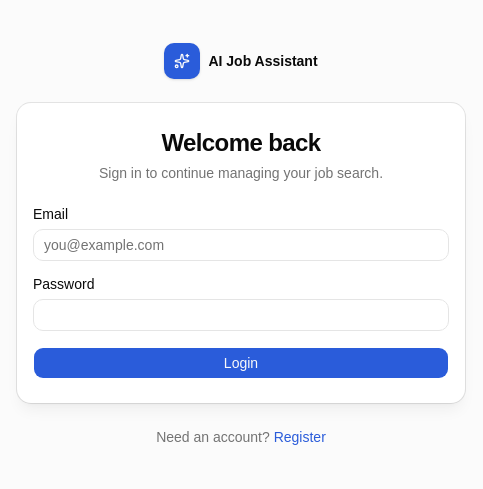
it: Login › shows a useful message when credentials are rejected
Type "user@example.com" into the field labelled "Email" at point(241, 245), box [33,229,449,261]
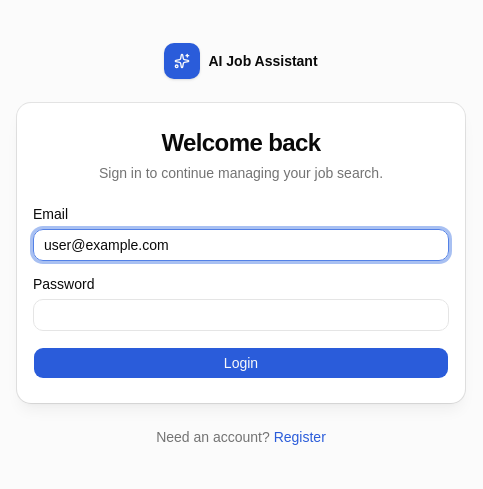
Type "wrong-password" into the password field labelled "Password" at point(241, 315), box [33,299,449,331]
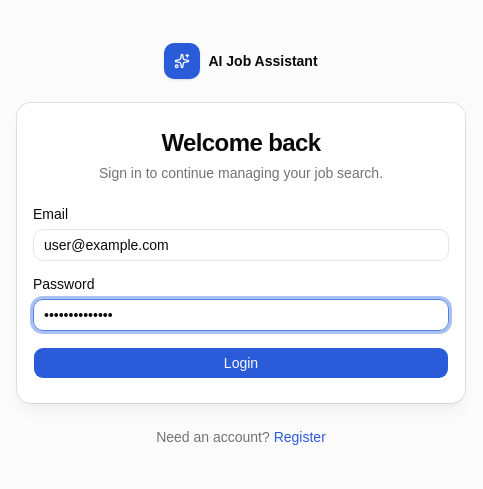
Click the button "Login" at point(241, 363), box [33,347,449,379]
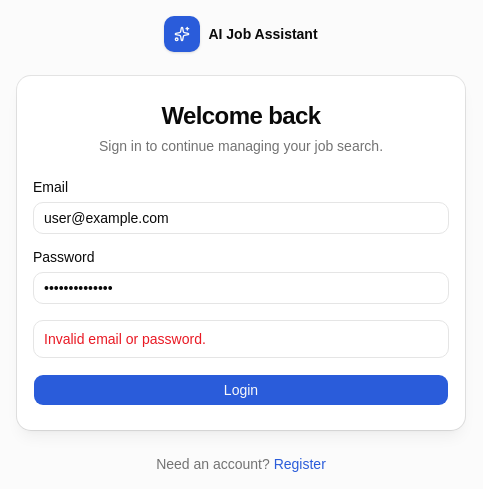
Now the message reads "Invalid email or password.", box [44,331,206,347]
